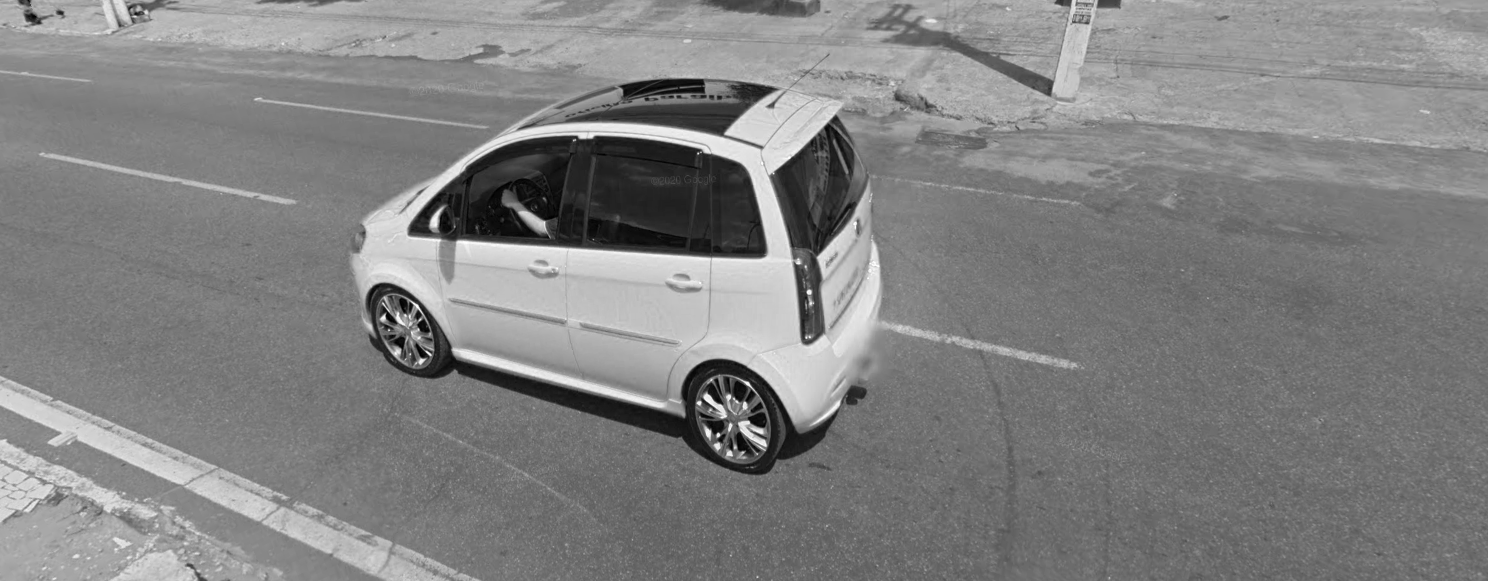car: (343, 52, 889, 485)
